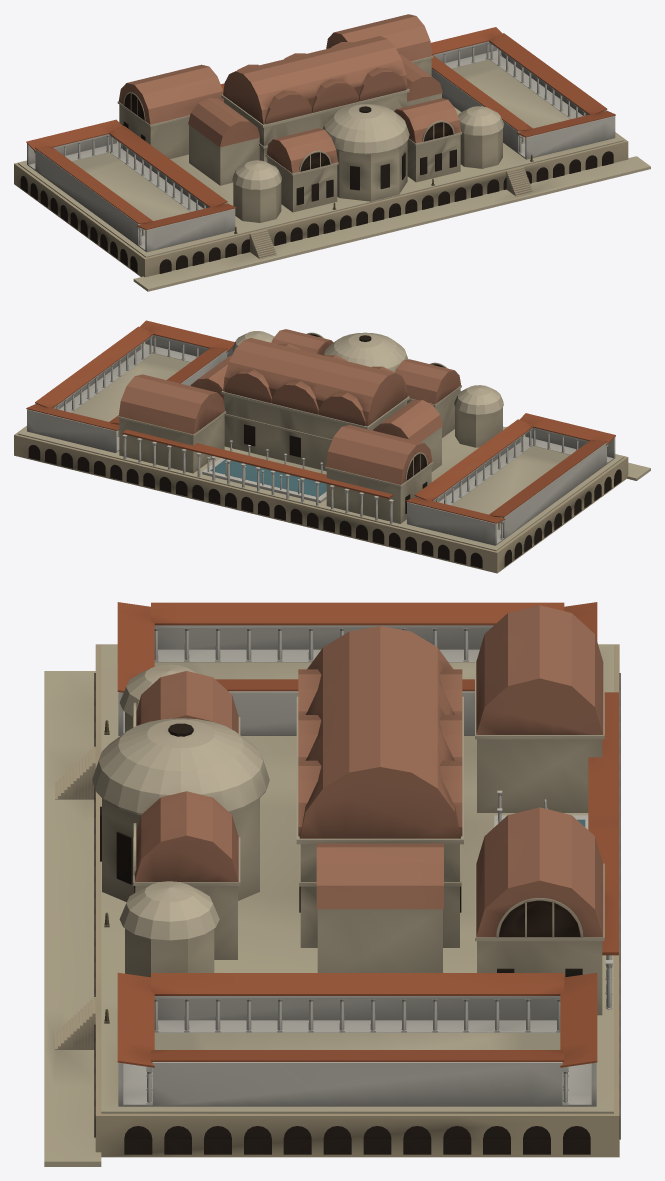
The model's file is antonine-baths.glb.
3 views of the same model, one above another, from view 1: azimuth 30°, elevation 25°; view 2: azimuth 150°, elevation 25°; view 3: azimuth 270°, elevation 25° (orthographic). The views are drawn at different scales.
Visible parts, largest first — view 1: p1_halls, p2_vaults, p0_basement; view 2: p1_halls, p2_vaults, p0_basement; view 3: p1_halls, p2_vaults, p0_basement.
Boxes of the visible parts, x1,y1,x2,y2 form: p1_halls: (26, 27, 615, 259); p2_vaults: (117, 14, 533, 233); p0_basement: (14, 48, 650, 291); p1_halls: (26, 320, 615, 545); p2_vaults: (117, 329, 503, 498); p0_basement: (14, 342, 650, 573); p1_halls: (55, 602, 612, 1106); p2_vaults: (92, 605, 618, 1023); p0_basement: (44, 644, 620, 1166).
Size of the model in its own units: 204 by 43.6 by 101.
